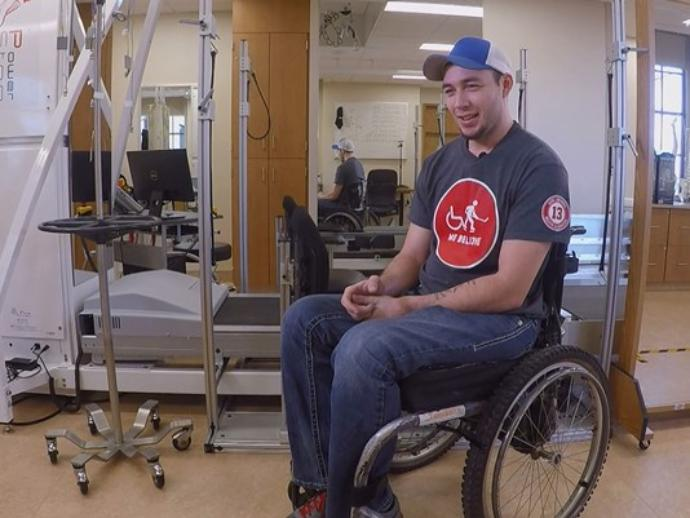Person: (271, 32, 560, 511)
